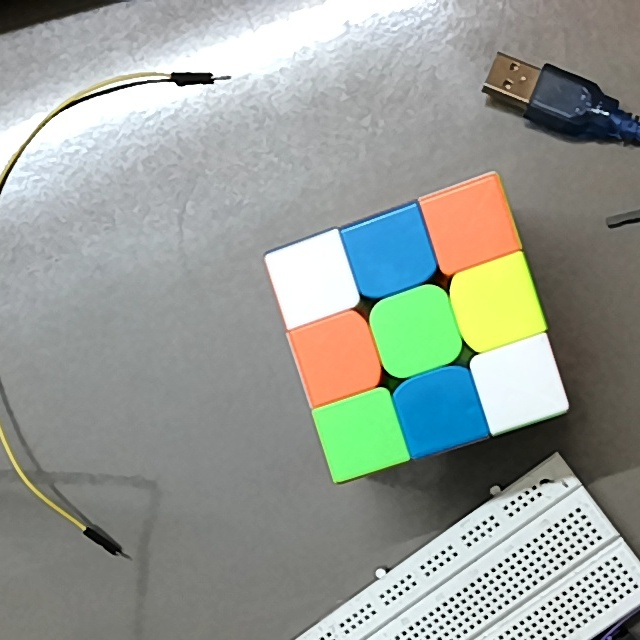tile: (386, 301, 449, 364), (470, 268, 529, 334), (491, 353, 553, 415), (439, 194, 503, 254), (411, 379, 470, 442), (310, 328, 369, 387), (363, 225, 423, 283), (335, 404, 393, 462), (286, 251, 340, 304)
